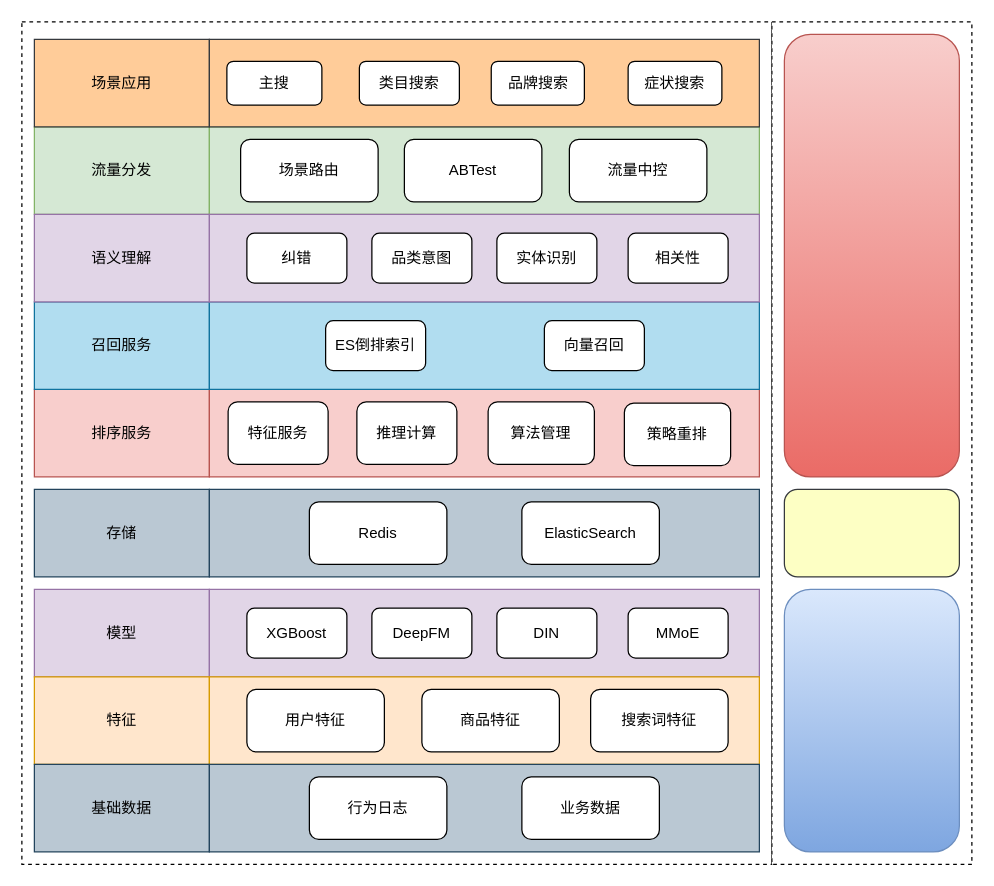
Some shapes in this 994 by 886 pixel diagram are drawn without their labels. The shapes that lost their labels are listed below. From the top down, each one's centre as x and y in pixels, then its label:
At [871,255]: "线上服务 运营工具 Spring Boot".
At [871,532]: "模型和特征存储".
At [871,720]: "离线计算 DolphinScheduler Spark Hive Tensorflow PyTorch".
